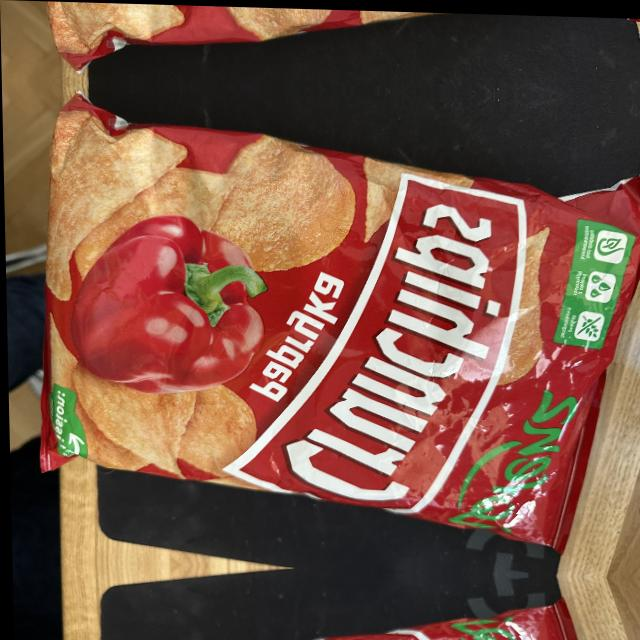crunchips: (221, 171, 527, 511)
